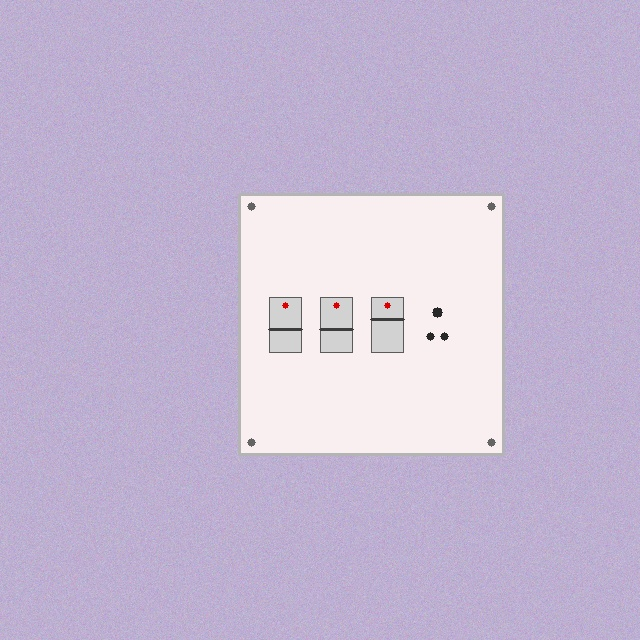switchboard: (239, 194, 503, 454)
